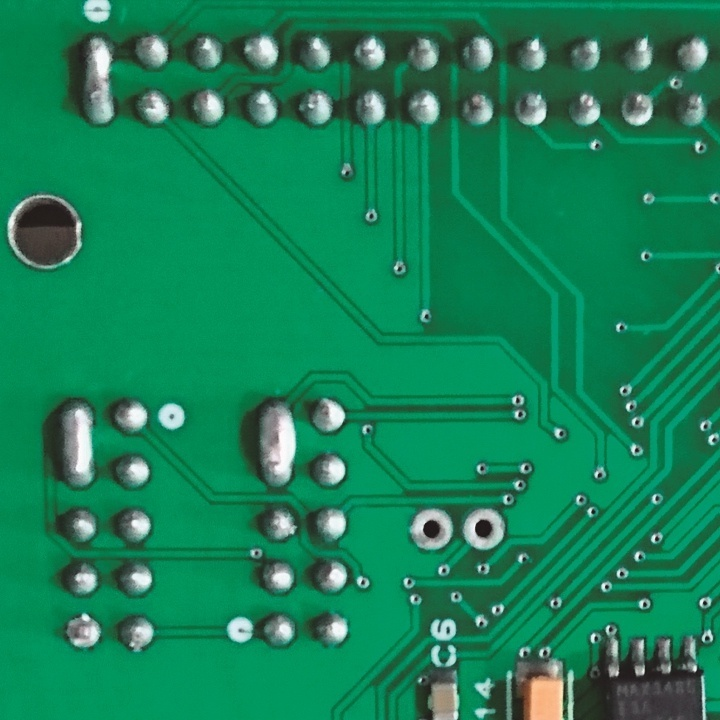F: (408, 506, 455, 555), (462, 506, 509, 555), (61, 610, 107, 653), (618, 86, 656, 135), (510, 87, 550, 133)
P: (253, 393, 302, 494), (75, 28, 121, 132), (52, 395, 101, 492)
